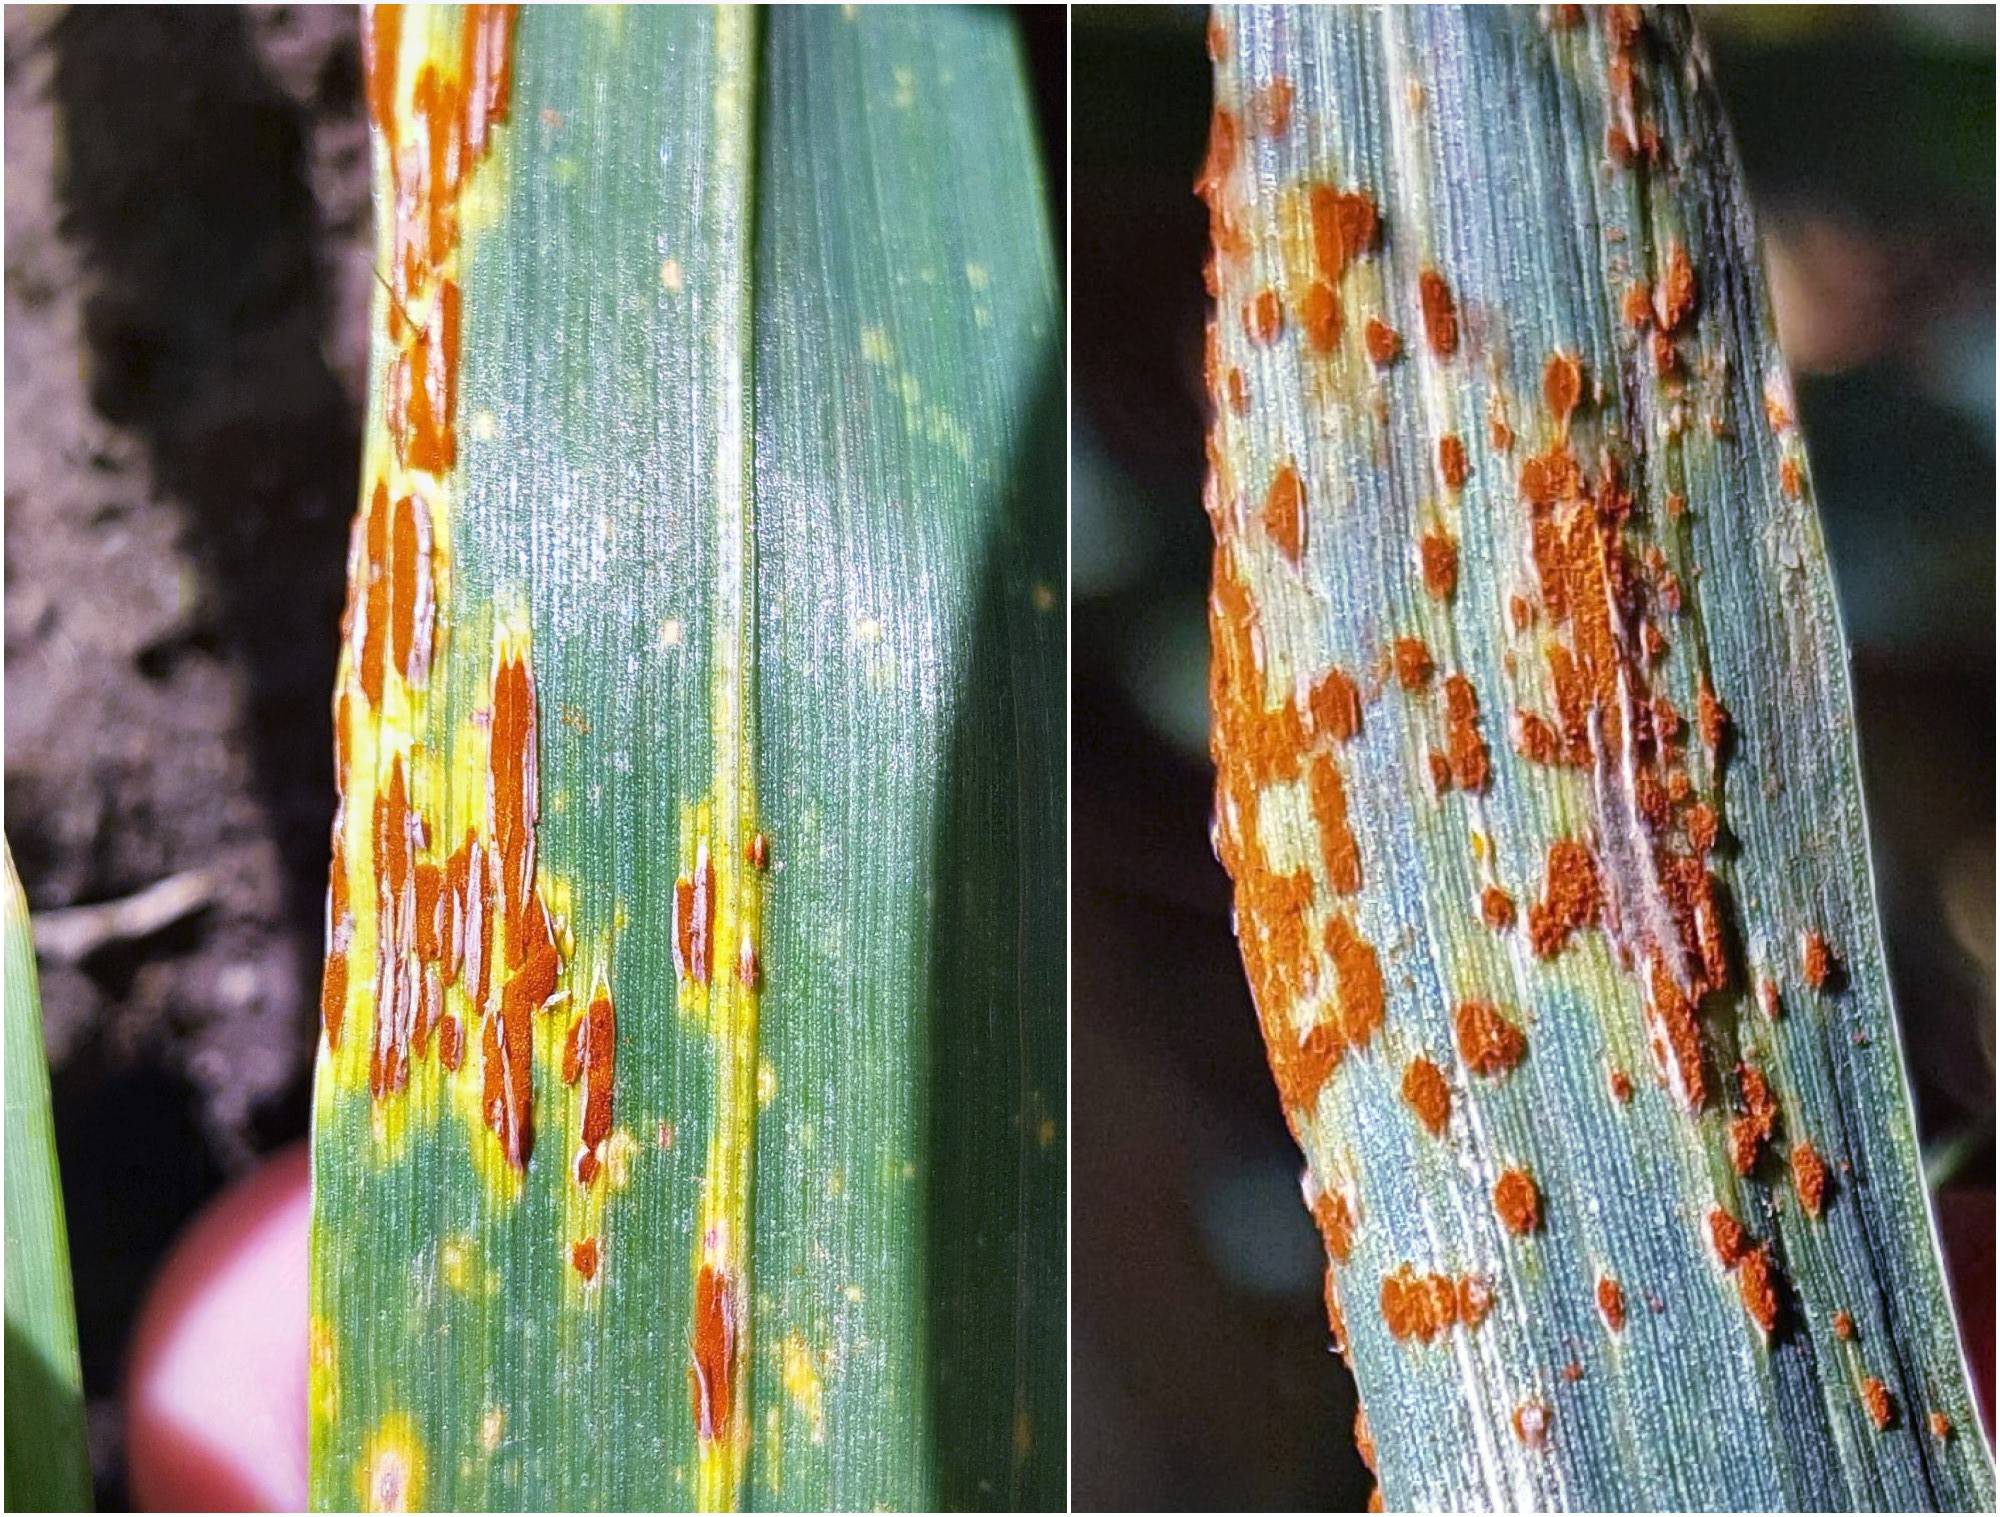Leaf Rust: (1163, 194, 1936, 1391), (199, 73, 849, 1386)
